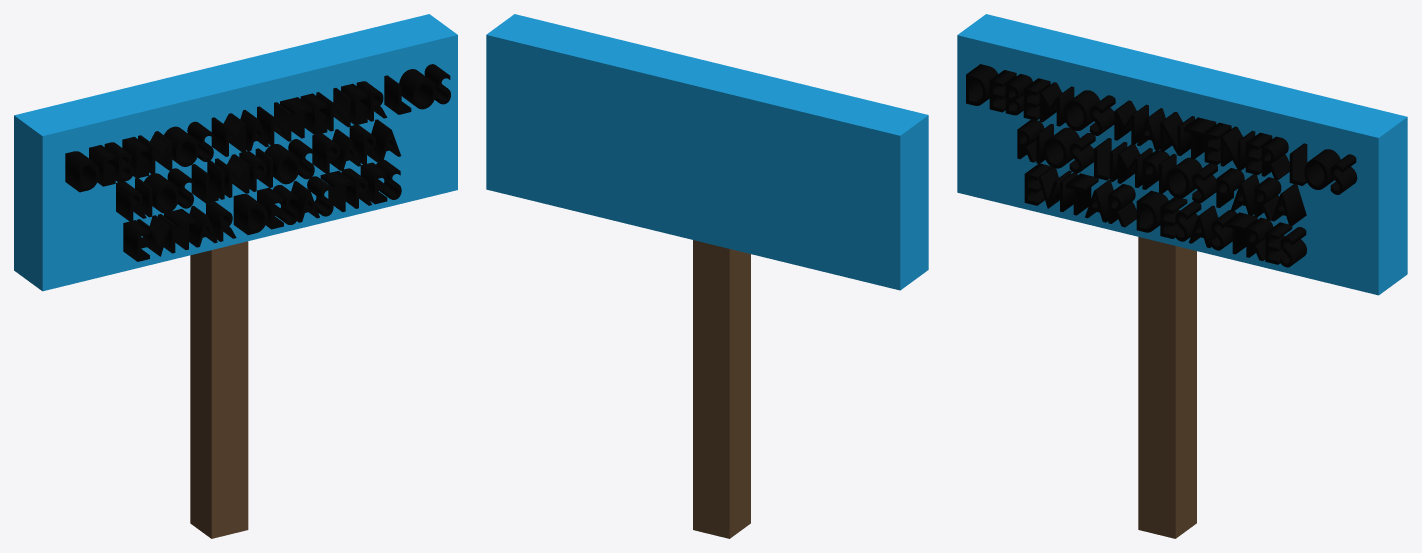
File: RiosLimpios.glb
3 views of the same model, side by side, from view 1: azimuth 30°, elevation 25°; view 2: azimuth 150°, elevation 25°; view 3: azimuth 330°, elevation 25° (orthographic).
Visible parts, largest first — view 1: Cubo.010, Texto.004, Cubo.011; view 2: Cubo.010, Cubo.011; view 3: Cubo.010, Texto.004, Cubo.011.
Boxes of the visible parts, left/top/right/bottom form: Cubo.010: left=14, top=14, right=457, bottom=291; Texto.004: left=65, top=64, right=450, bottom=261; Cubo.011: left=190, top=241, right=248, bottom=538; Cubo.010: left=486, top=14, right=928, bottom=290; Cubo.011: left=693, top=240, right=750, bottom=538; Cubo.010: left=957, top=14, right=1407, bottom=295; Texto.004: left=966, top=64, right=1357, bottom=267; Cubo.011: left=1138, top=237, right=1196, bottom=538.
Bounding box in the file's own units: 3.47 × 3.58 × 0.6204.
